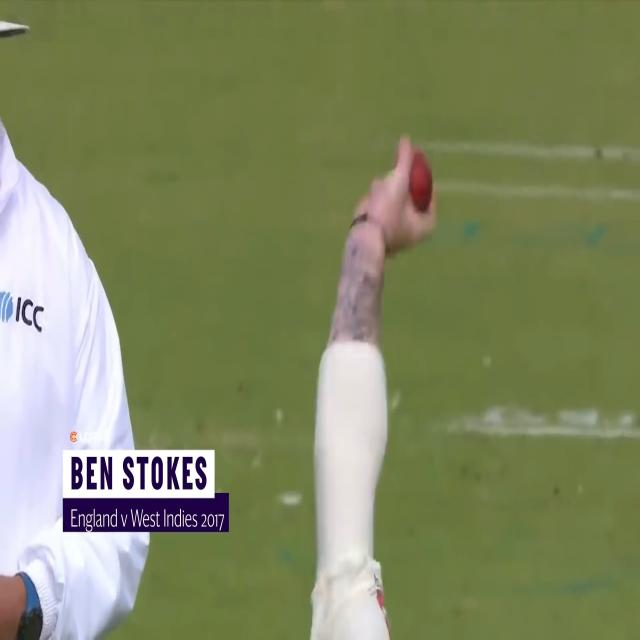ball: (408, 146, 433, 216)
